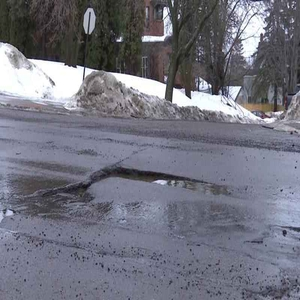pothole: (98, 165, 202, 193), (40, 182, 94, 209)
